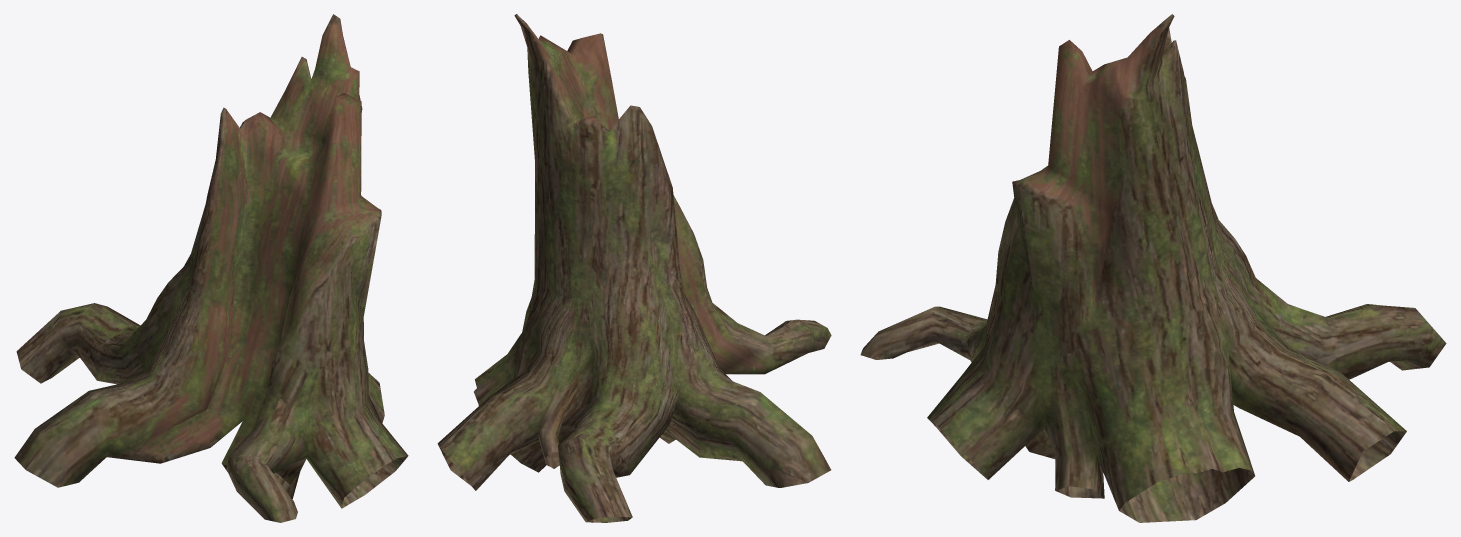
Rendered from TreeBroken10.fbx.
The picture shows the model from 3 angles, left to right: view 1: azimuth 30°, elevation 25°; view 2: azimuth 150°, elevation 25°; view 3: azimuth 270°, elevation 25°; orthographic projection. The views are drawn at different scales.
Parts seen in each view (by area): view 1: SM_cmn_mount_Stump_01a; view 2: SM_cmn_mount_Stump_01a; view 3: SM_cmn_mount_Stump_01a.
Part boxes in pixels (left/top/right/bottom): SM_cmn_mount_Stump_01a: left=14, top=14, right=408, bottom=522; SM_cmn_mount_Stump_01a: left=437, top=14, right=831, bottom=522; SM_cmn_mount_Stump_01a: left=860, top=14, right=1446, bottom=522.
Bounding box in the file's own units: 245 × 294 × 298.
